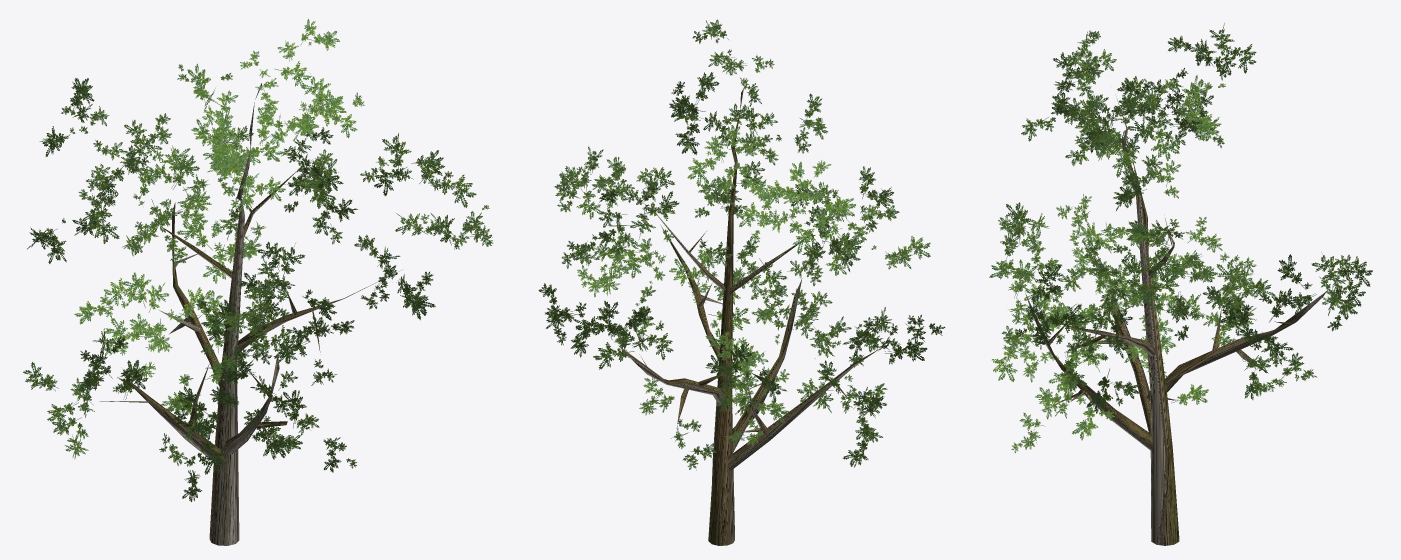
The model's file is ash-far.glb.
3 views of the same model, side by side, from view 1: azimuth 30°, elevation 25°; view 2: azimuth 150°, elevation 25°; view 3: azimuth 270°, elevation 25° (orthographic). The views are drawn at different scales.
Parts seen in each view (by area): view 1: ash-leaves, ash-bark; view 2: ash-leaves, ash-bark; view 3: ash-leaves, ash-bark.
Part boxes in pixels (box(x1,y1,x2,y2)): ash-leaves: box(23, 19, 493, 501); ash-bark: box(100, 83, 401, 545); ash-leaves: box(538, 19, 945, 470); ash-bark: box(618, 88, 879, 545); ash-leaves: box(989, 23, 1372, 452); ash-bark: box(1025, 99, 1325, 545).
Size of the model in its own units: 9.04 by 10.53 by 7.29.
2 materials, 2 textured.
